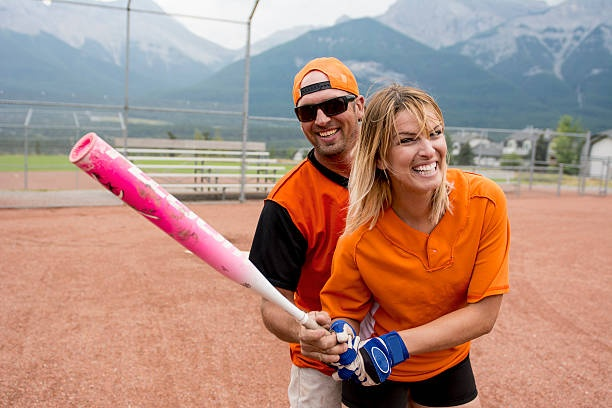bita: (65, 127, 335, 342)
